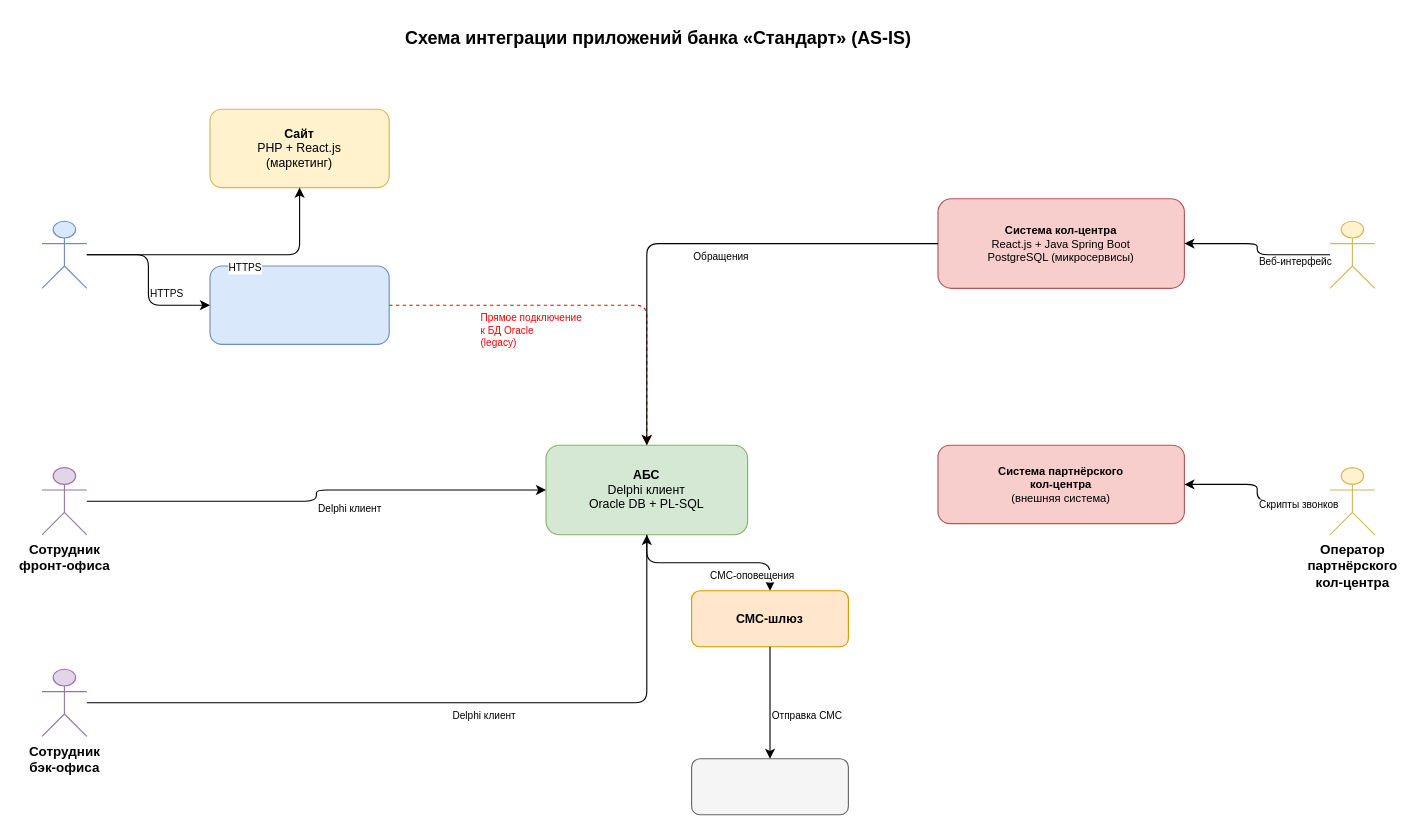
Image size: 1417x834. Some labels were removed from this diagram. Each missing label, with the centre of its shape:
Интернет-банк ASP.NET MVC 4.5 MS SQL: [299,304]
Клиент: [64,254]
Оператор кол-центра: [1352,254]
Телеком-оператор (внешний): [769,786]
